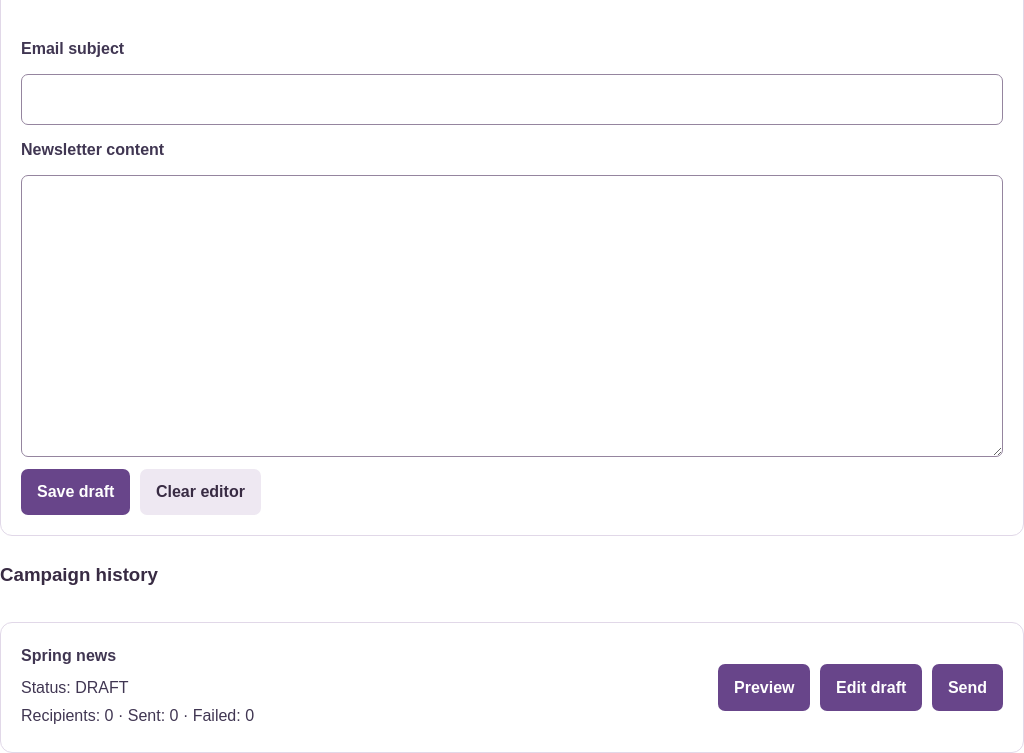
Test case: AdminNewsletter › clears the editor
(page scrolled)
Click the button "Edit draft" at x=871, y=687, box [820,664,922,711]
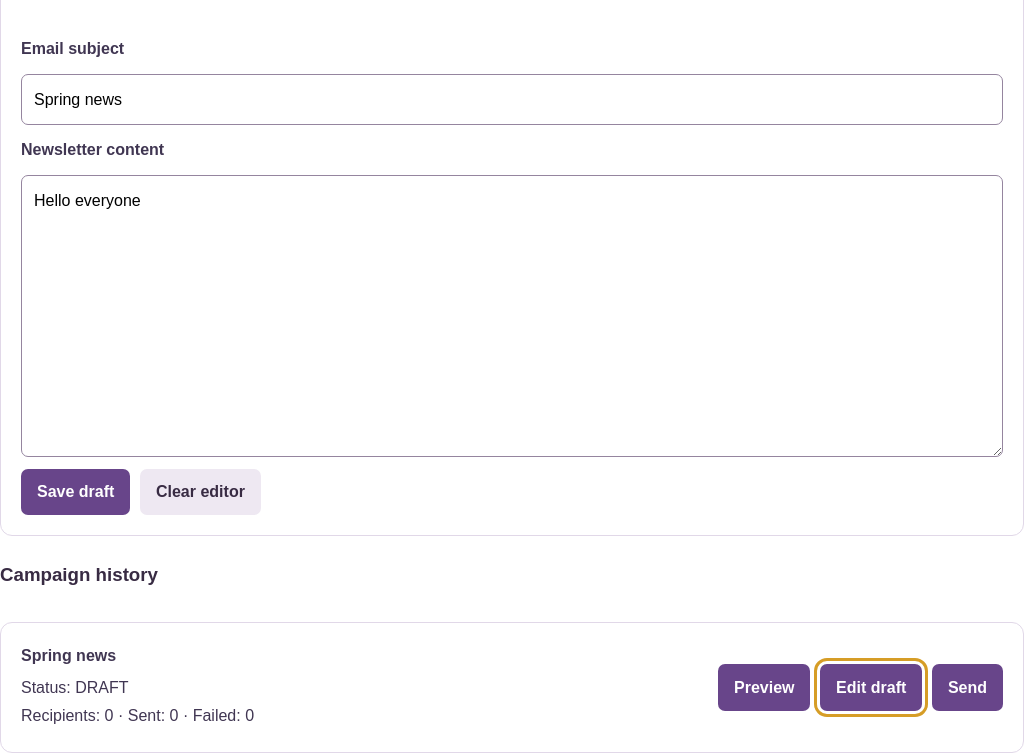
Click the button "Clear editor" at x=200, y=492, box [140,469,261,515]
(page scrolled)
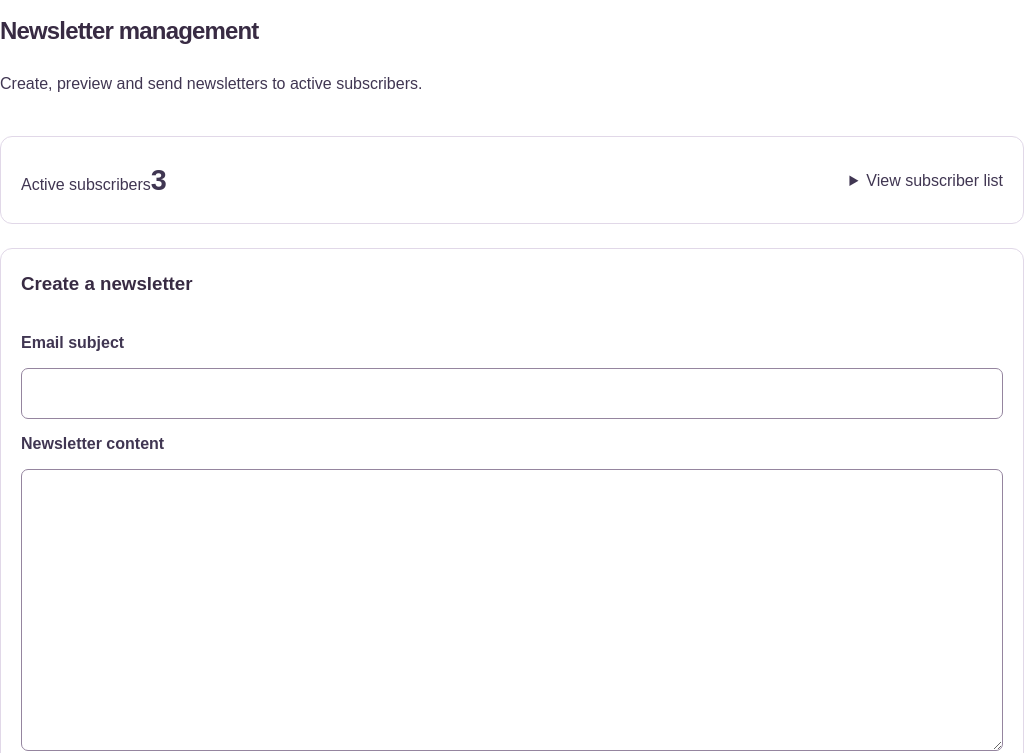
expect the field labelled "Email subject" is empty: met, box [21,368,1003,419]
expect the text box labelled "Newsletter content" is empty: met, box [21,469,1003,751]
expect the heading "Create a newsletter" is shown: met, box [21,273,192,294]
